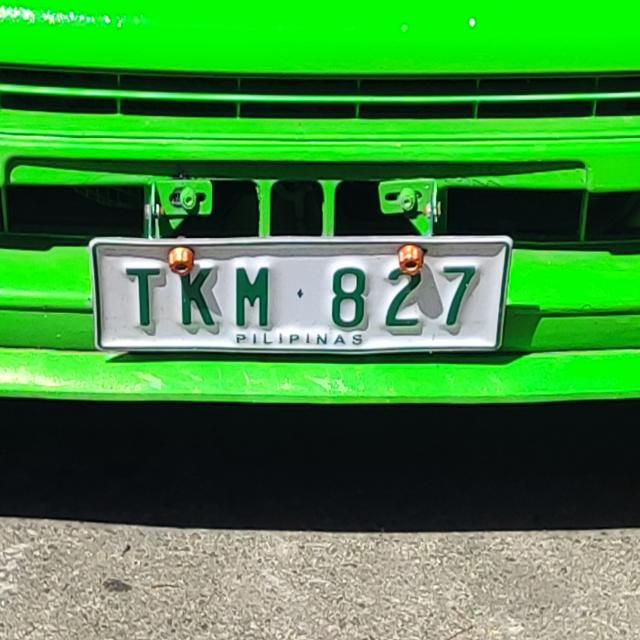plate: (84, 228, 515, 363)
